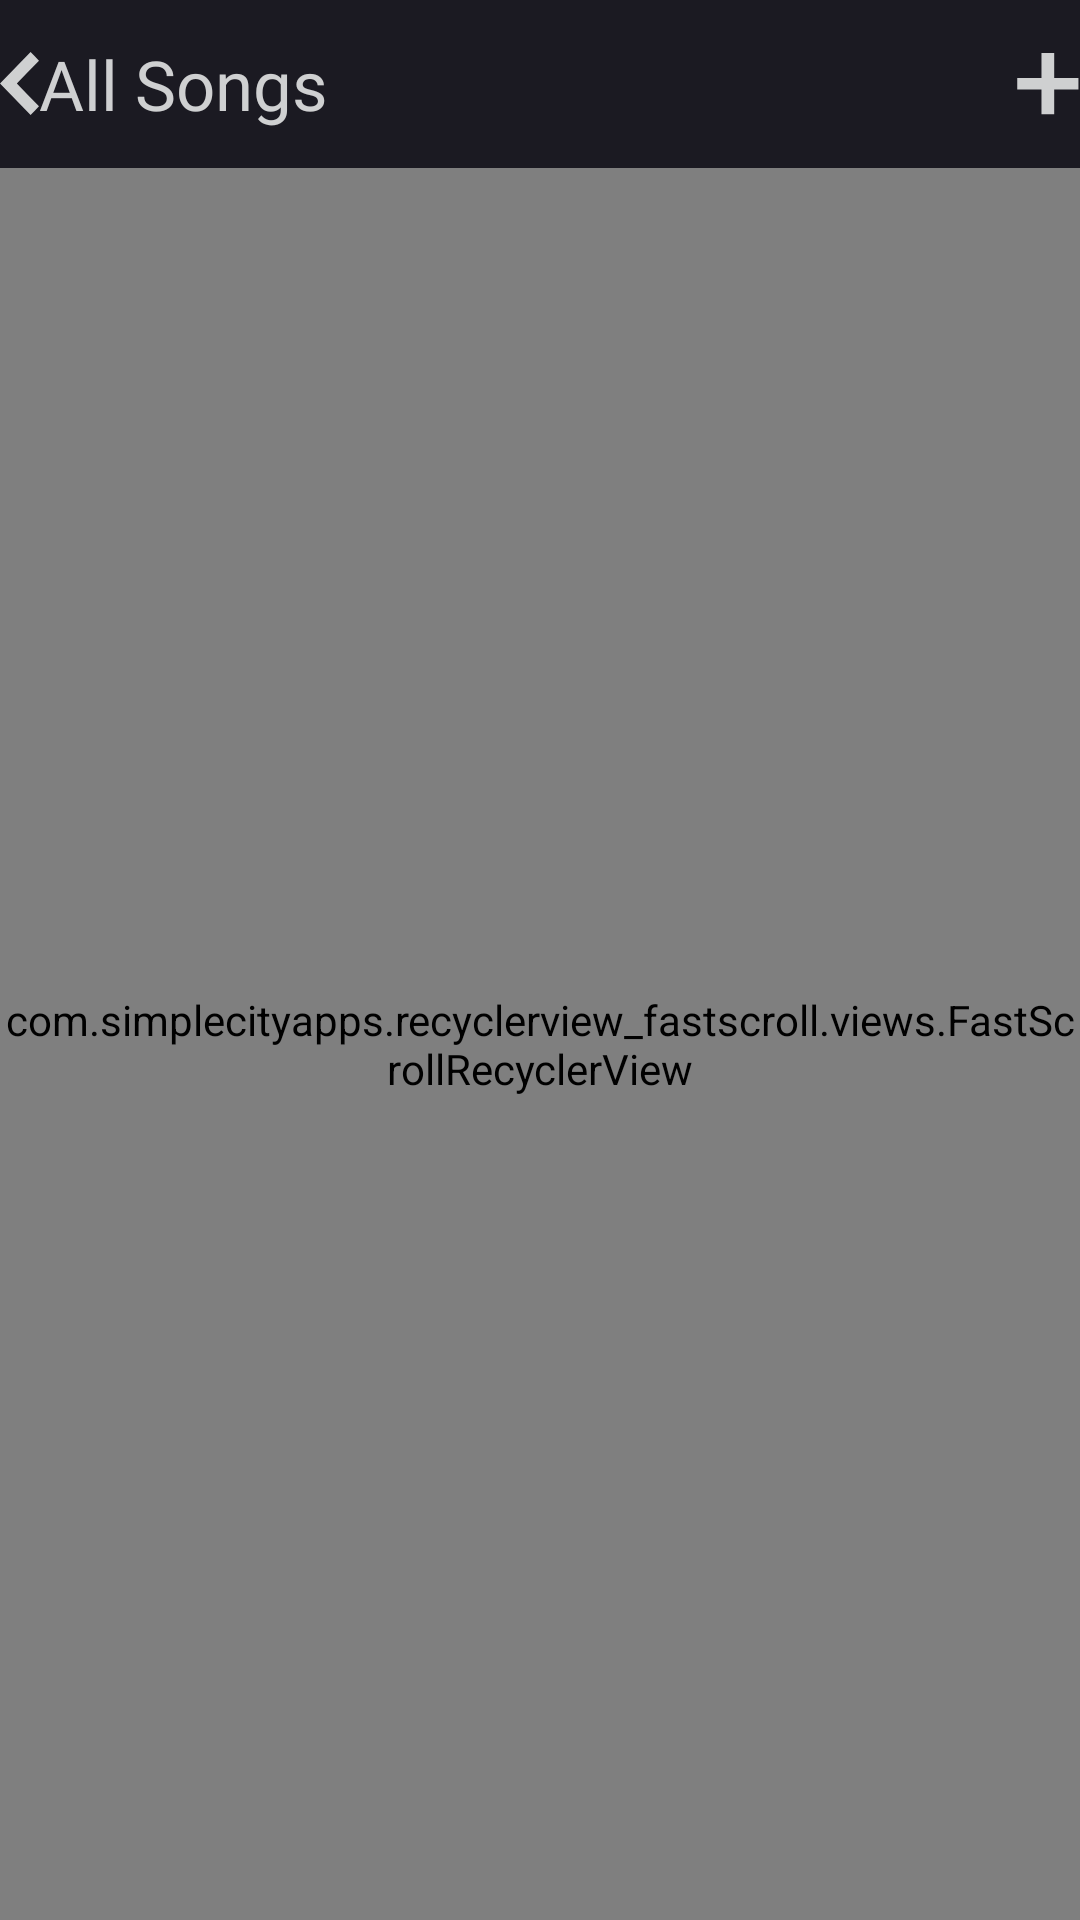

Point at icon controls on the screen. Image size 1080px×1920px, points as (x=x, y=y).
add: (x=1048, y=84)
back: (x=19, y=83)
